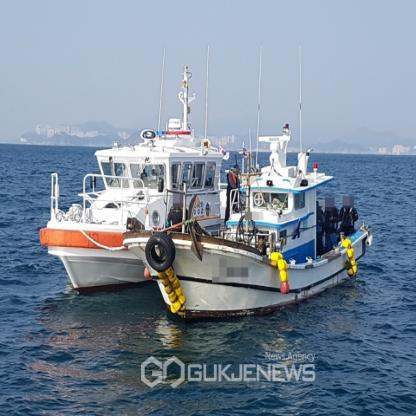fish-b: (123, 124, 377, 323), (37, 116, 248, 293)
